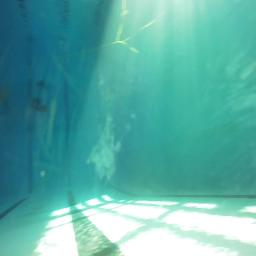Full: (32, 99, 46, 112)
